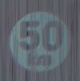Speed limit: (4, 2, 73, 72)
